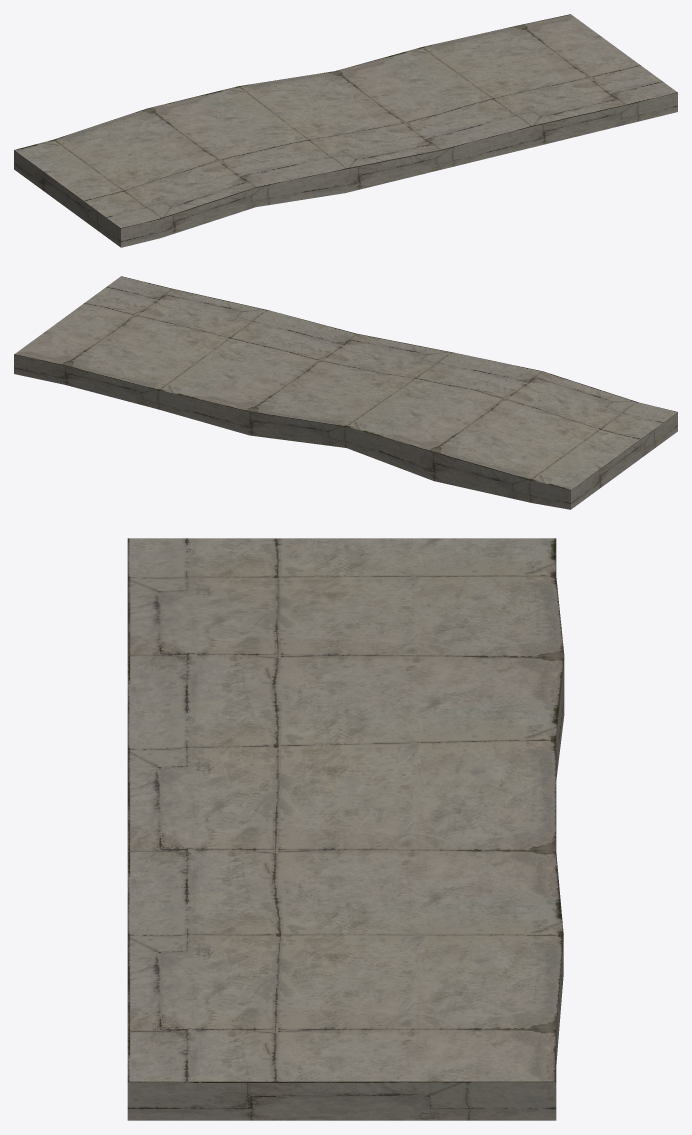
Rendered from Floor_Plate_Woble_A_6x2.FBX.
The picture shows the model from 3 angles, top to bottom: view 1: azimuth 30°, elevation 25°; view 2: azimuth 150°, elevation 25°; view 3: azimuth 270°, elevation 25°; orthographic projection. The views are drawn at different scales.
Parts seen in each view (by area): view 1: Floor_Plate_Woble_A_6x2; view 2: Floor_Plate_Woble_A_6x2; view 3: Floor_Plate_Woble_A_6x2.
Boxes of the visible parts, x1,y1,x2,y2 form: Floor_Plate_Woble_A_6x2: (14,14,677,247); Floor_Plate_Woble_A_6x2: (14,276,677,509); Floor_Plate_Woble_A_6x2: (127,538,564,1120).
Bounding box in the file's own units: 600 × 33.41 × 204.
